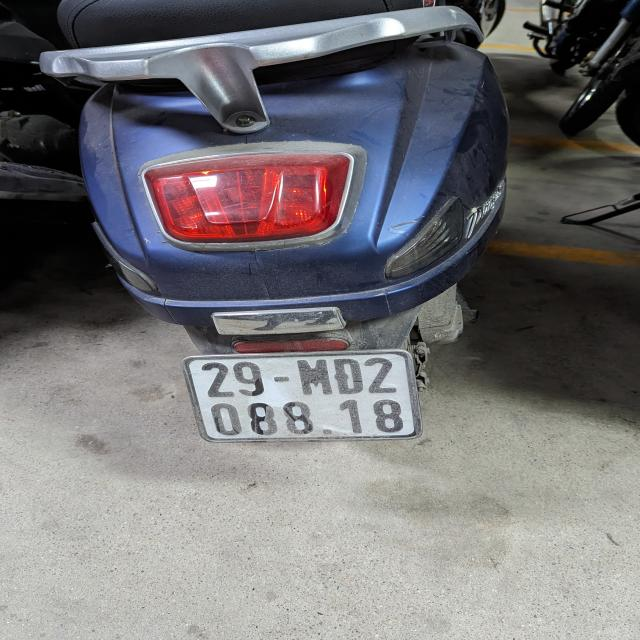License: (181, 348, 422, 443)
